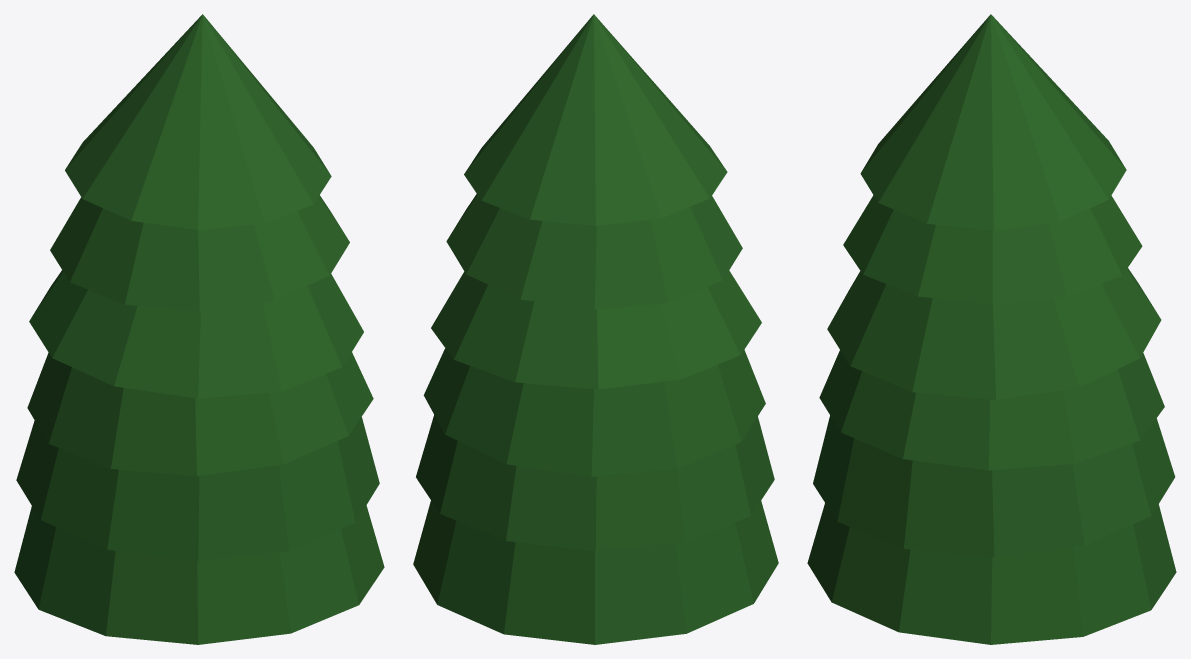
Rendered from ForestTree1.fbx.
The picture shows the model from 3 angles, left to right: view 1: azimuth 30°, elevation 25°; view 2: azimuth 150°, elevation 25°; view 3: azimuth 270°, elevation 25°; orthographic projection.
Parts seen in each view (by area): view 1: Tree3.3; view 2: Tree3.3; view 3: Tree3.3.
Part boxes in pixels (<box>): Tree3.3: <box>14,14,384,644</box>; Tree3.3: <box>413,14,778,644</box>; Tree3.3: <box>807,14,1176,644</box>.
Size of the model in its own units: 321 by 572 by 320.
